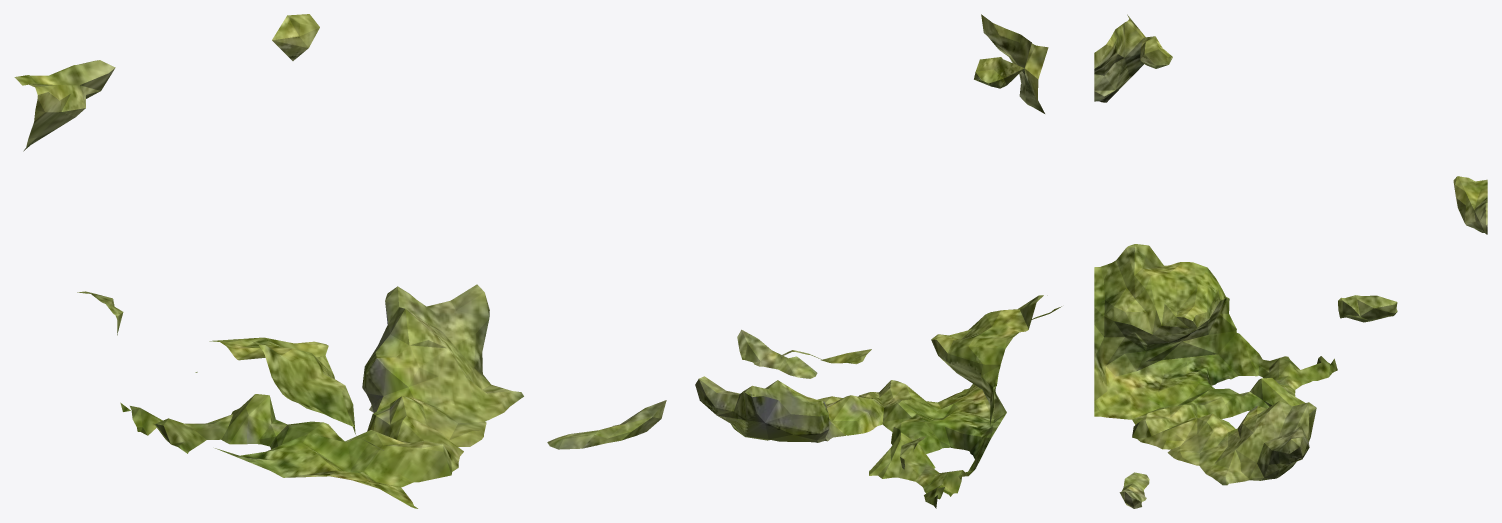
3 renders of one model, left to right at view 1: azimuth 30°, elevation 25°; view 2: azimuth 150°, elevation 25°; view 3: azimuth 270°, elevation 25°, orthographic. The views are drawn at different scales.
Bounding box in the file's own units: 2.51 × 2.95 × 2.95.
2 materials, 2 textured.
